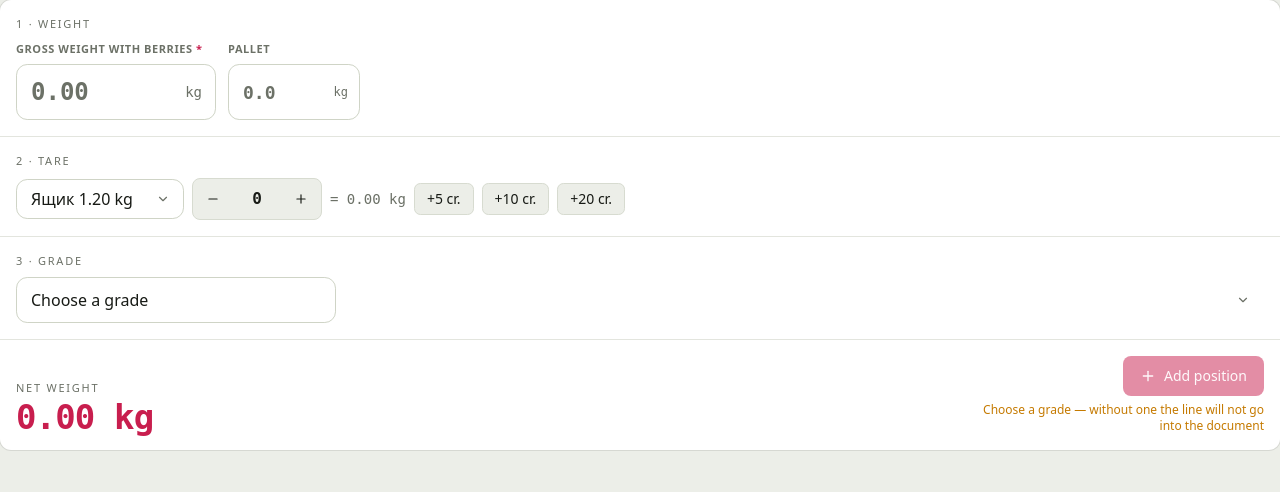
Test case: WeighingForm › computes чиста вага as gross − pallet − tare, live
Type "120.50" into the field labelled "Gross weight with berries" at (116, 92), box [16,64,216,120]
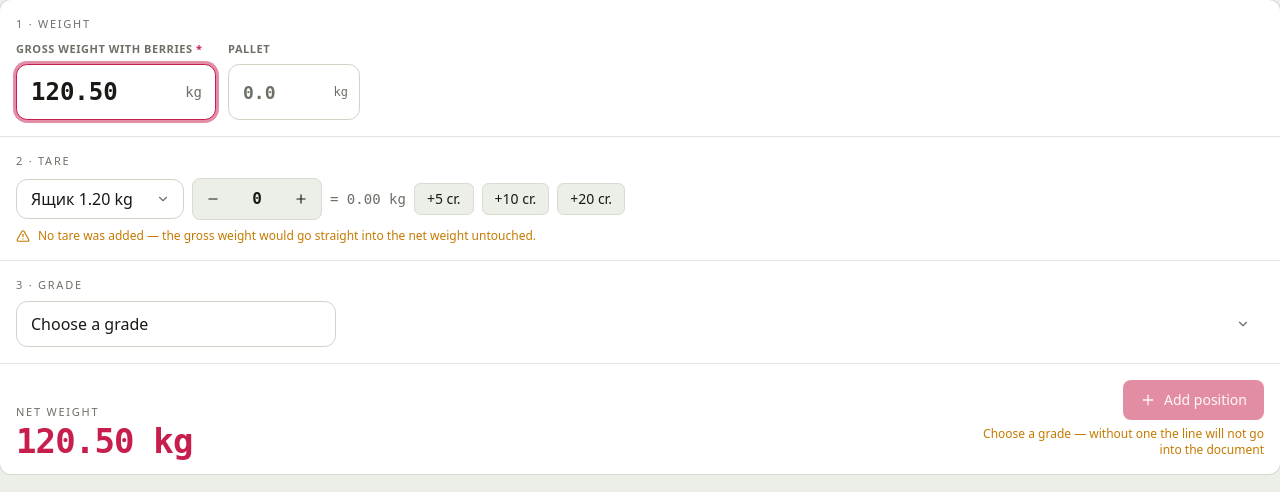
Type "20" into the field labelled "Pallet" at (294, 92), box [228,64,360,120]
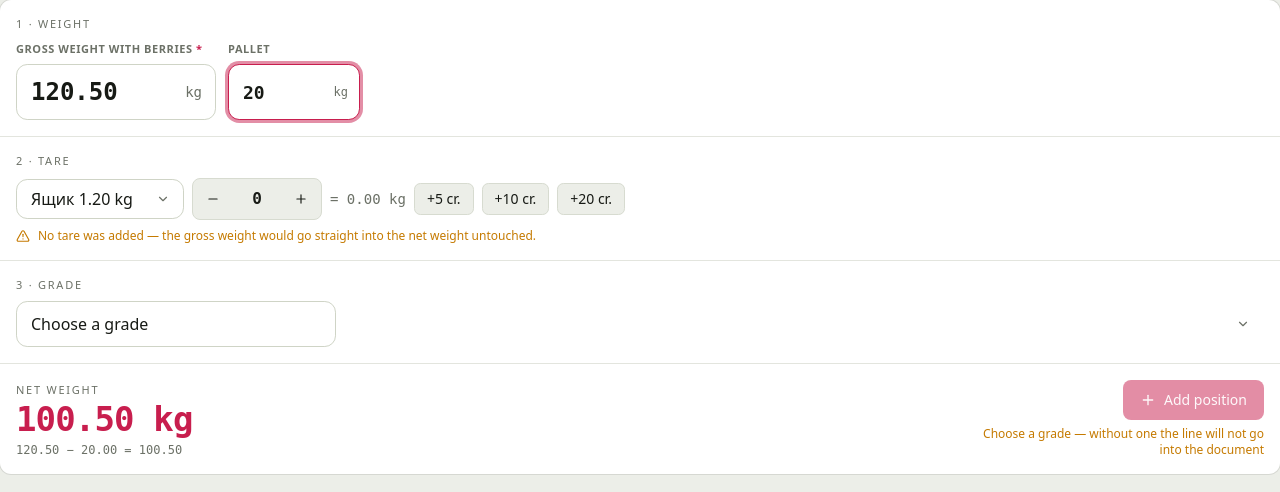
Replace the text in the field named "Number of crates" with "10" at (257, 198), box [233,186,281,210]
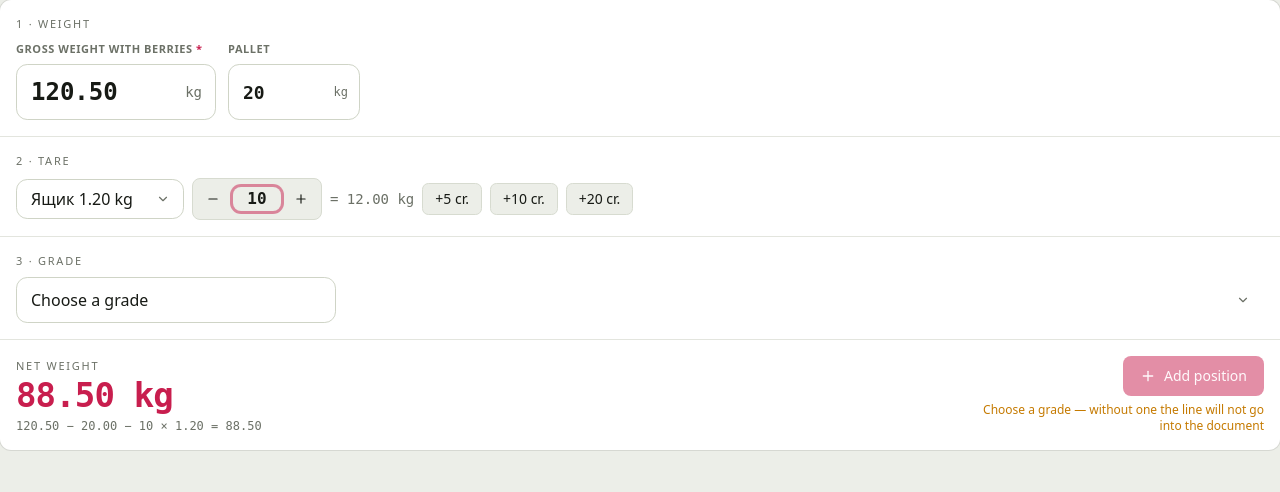
Result: the text with test id "net-kg" shows "88.50" at [16,375,173,415]
Result: the text with test id "net-formula" reads "120.50 − 20.00 − 10 × 1.20 = 88.50" at [16,419,262,433]
